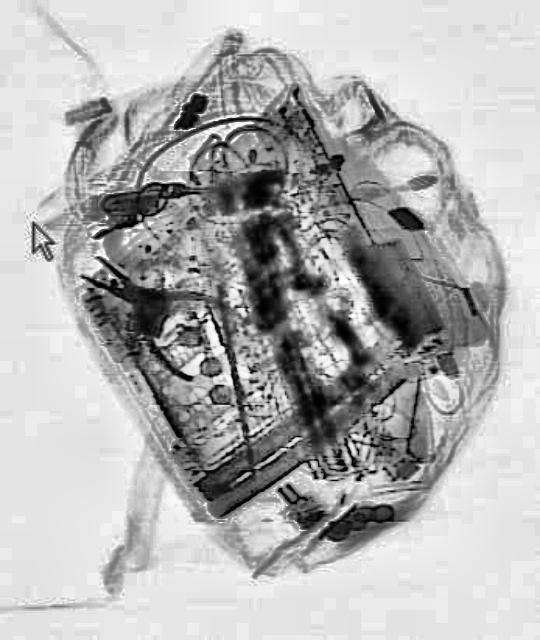Pliers: (64, 224, 250, 396)
